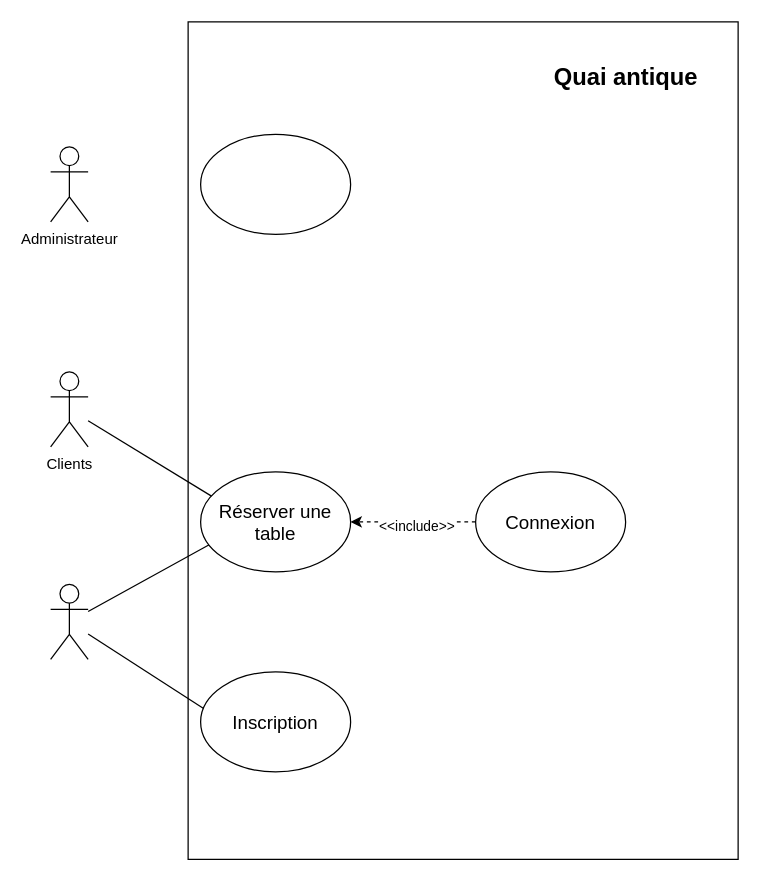
Image size: 760x881. Some labels were removed from this diagram. The centre of each missing label's shape, as x and y in pixels:
cas d'utilisation: (x=275, y=183)
Visiteurs: (x=68, y=621)
